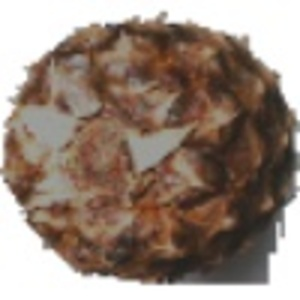abacaxi: (4, 12, 292, 275)
